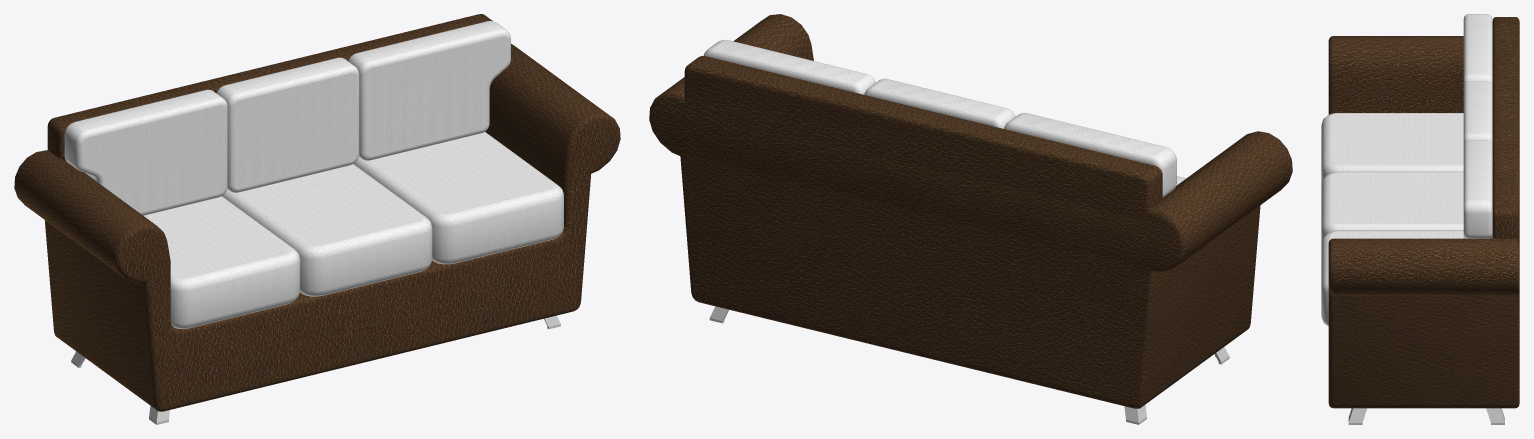
The model's file is sofa.dae.
The picture shows the model from 3 angles, left to right: view 1: azimuth 30°, elevation 25°; view 2: azimuth 150°, elevation 25°; view 3: azimuth 270°, elevation 25°; orthographic projection. The views are drawn at different scales.
Parts seen in each view (by area): view 1: SketchUp (×6); view 2: SketchUp (×3); view 3: SketchUp (×3), Base_Supporter (×2).
Part boxes in pixels (x1=…): SketchUp (×6): x1=14, y1=14, x2=620, y2=411; SketchUp (×3): x1=649, y1=14, x2=1292, y2=408; SketchUp (×3): x1=1321, y1=14, x2=1519, y2=408; Base_Supporter (×2): x1=1348, y1=408, x2=1504, y2=424.
Bounding box in the file's own units: 93.67 × 34.71 × 43.94.
5 materials, 2 textured.
